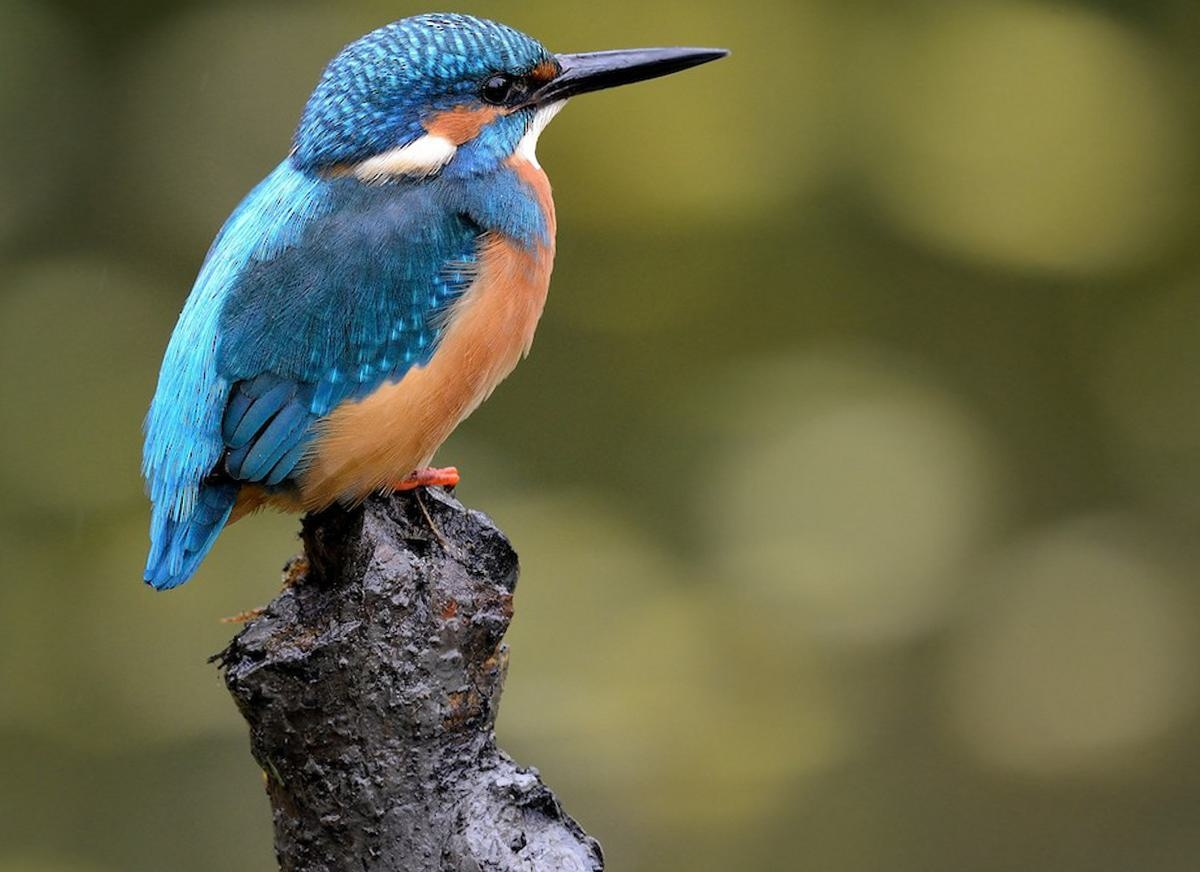kingfisher: (133, 11, 709, 590)
